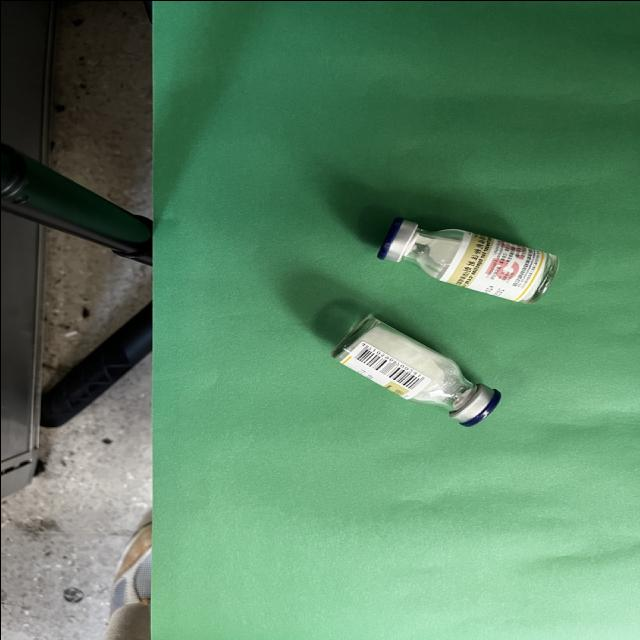Vials: (331, 315, 499, 425), (377, 218, 557, 302)
